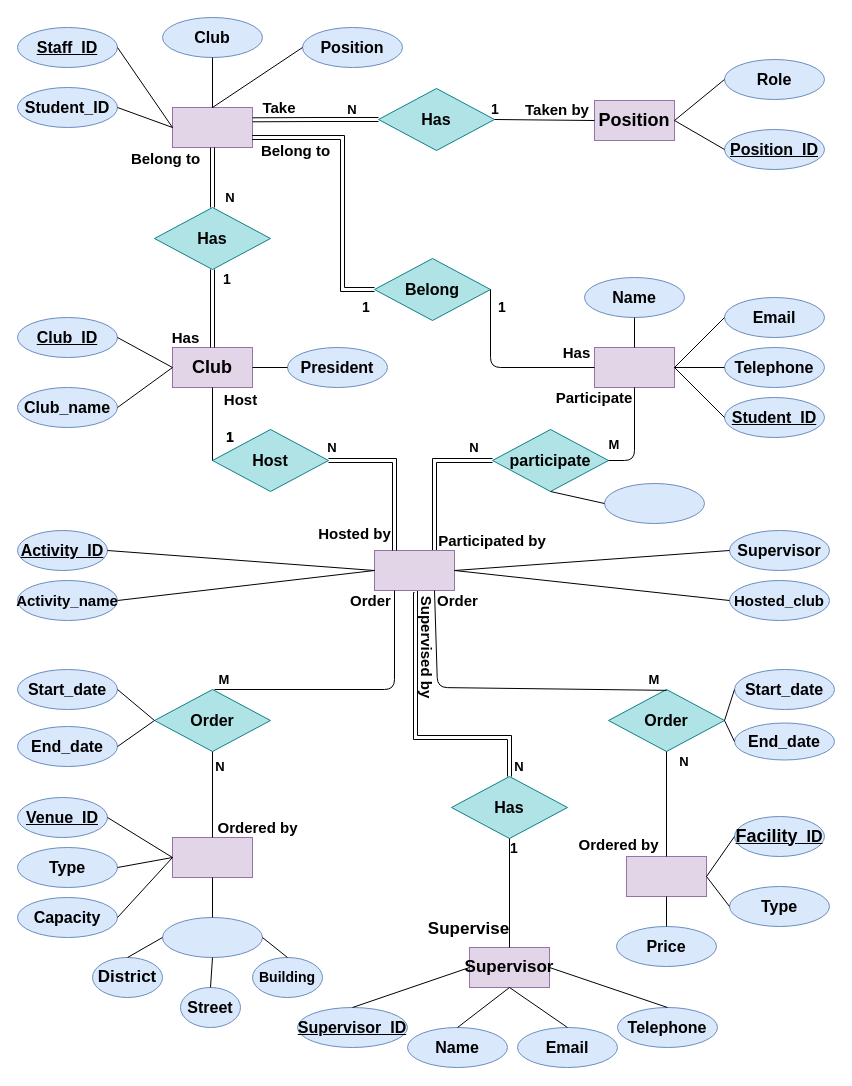
The diagram is 852 pixels wide and 1086 high, and some of its shapes have lost their labels. The centre of each missing label's shape, as x and y in pixels:
Activity: pixel 414 570
Address: pixel 212 937
Confirmed: pixel 654 503
Facility: pixel 666 876
Staff: pixel 212 127
Student: pixel 634 367
Venue: pixel 212 857
